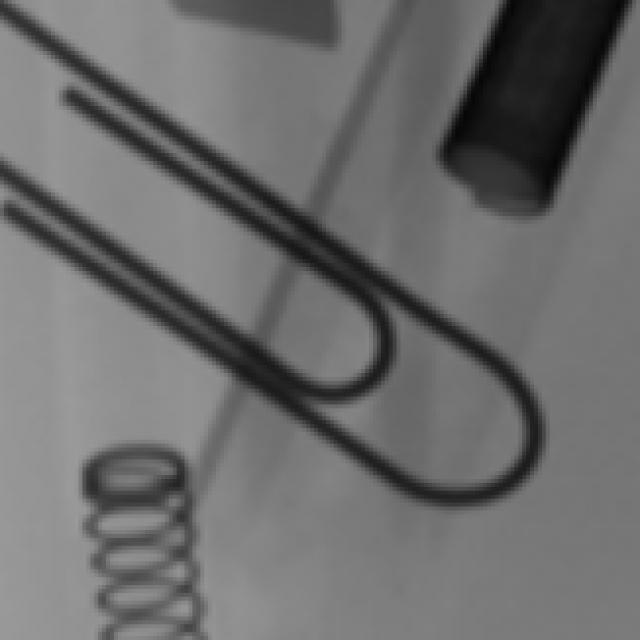BLADE: (107, 1, 374, 74)
